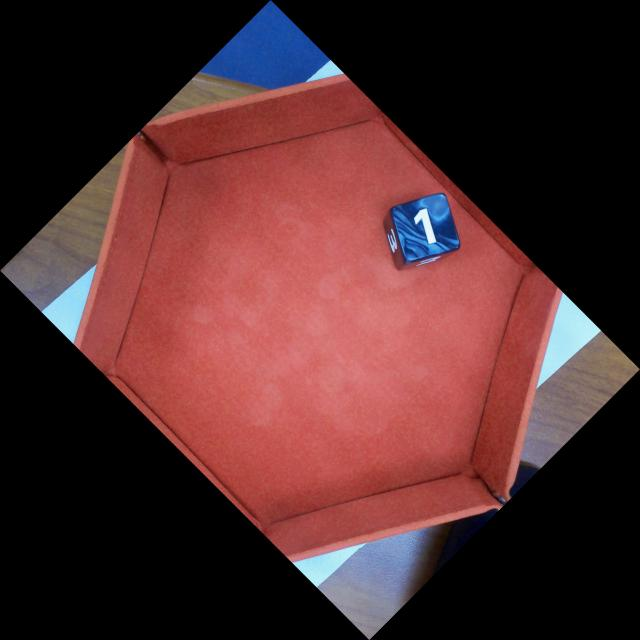dice: (393, 196, 462, 261)
